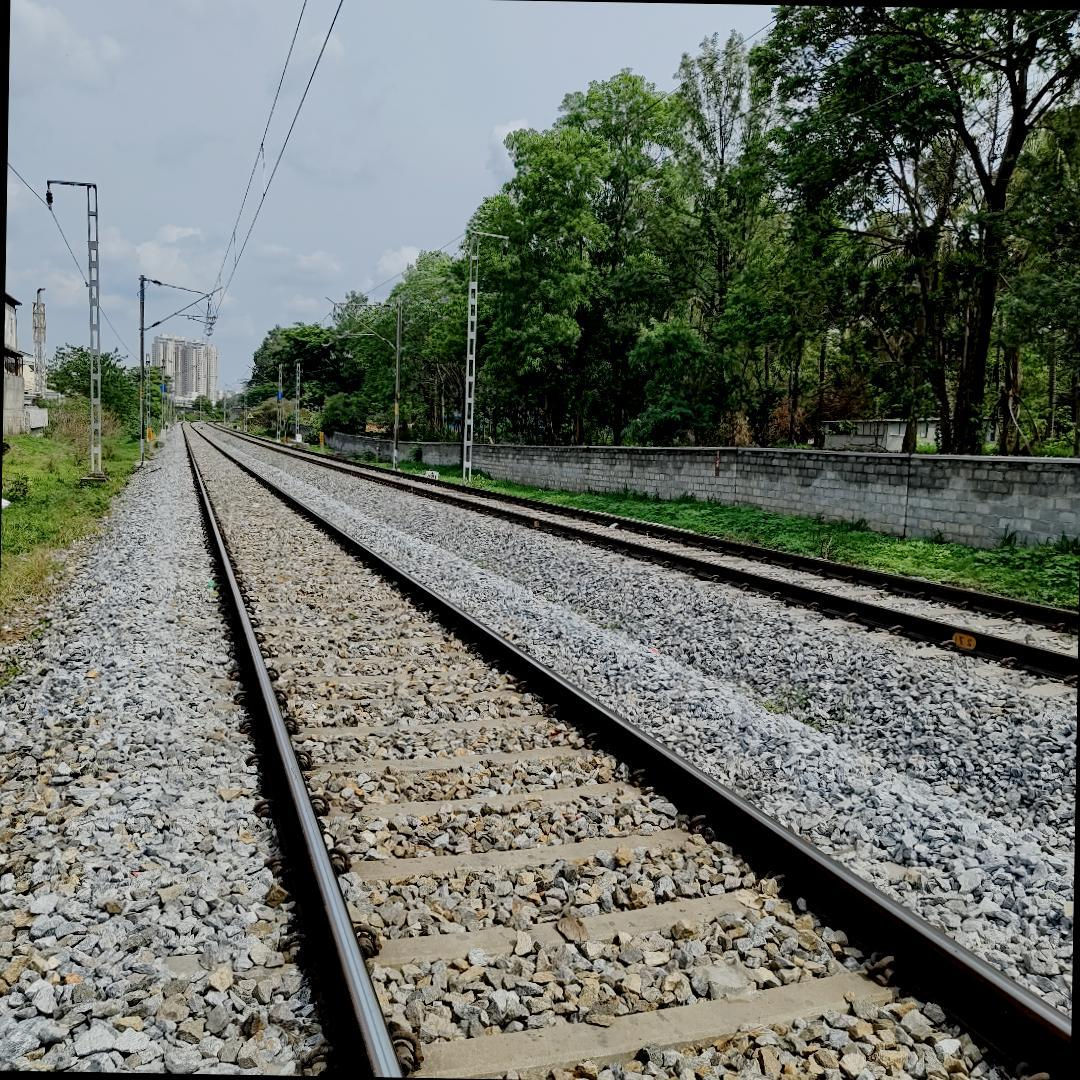track: (174, 414, 1072, 1080)
